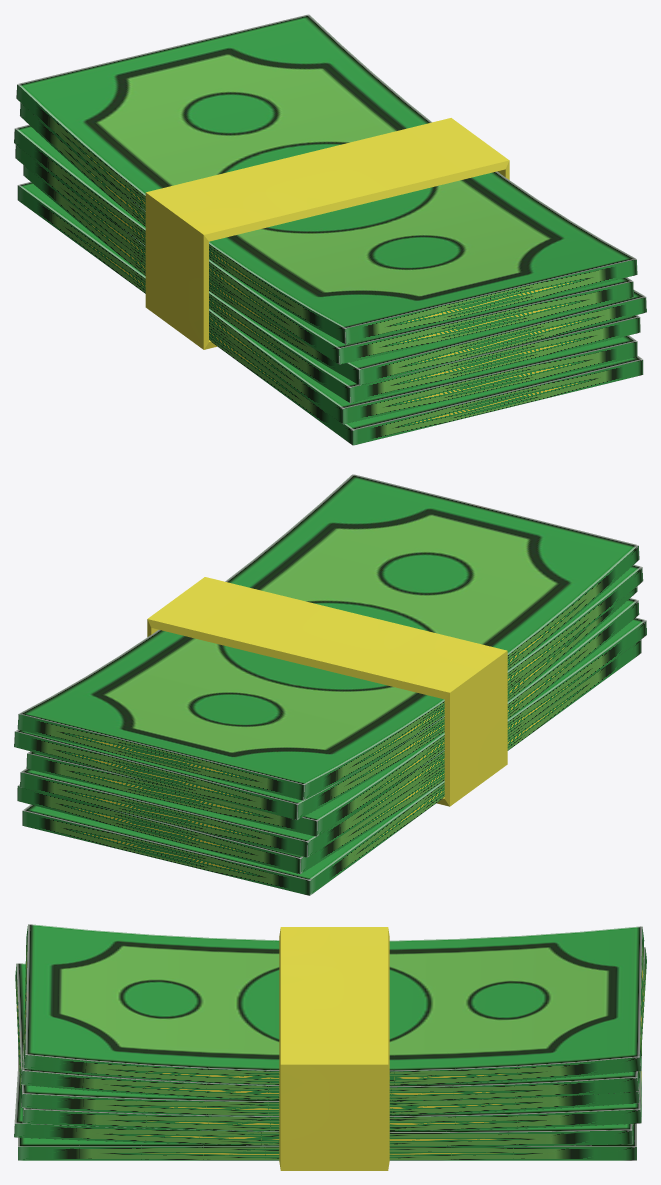
The model's file is Money Stack.fbx.
The picture shows the model from 3 angles, top to bottom: view 1: azimuth 30°, elevation 25°; view 2: azimuth 150°, elevation 25°; view 3: azimuth 270°, elevation 25°; orthographic projection. The views are drawn at different scales.
Visible parts, largest first — view 1: Money_Model; view 2: Money_Model; view 3: Money_Model.
Part boxes in pixels (<box>): Money_Model: <box>14,14,646,445</box>; Money_Model: <box>14,474,646,895</box>; Money_Model: <box>14,924,646,1170</box>.
Bounding box in the file's own units: 5.17 × 1.94 × 10.01.
